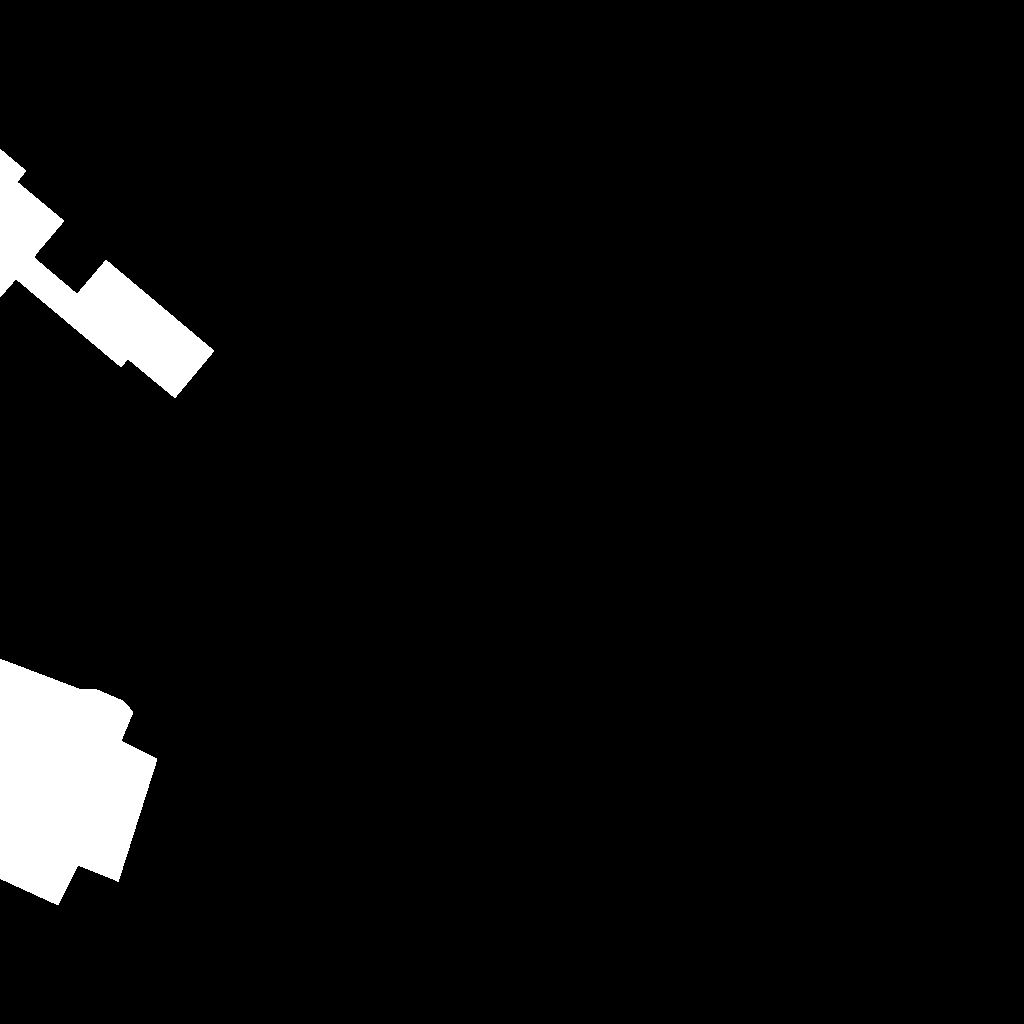building: (0, 149, 215, 399), (0, 659, 158, 906)
